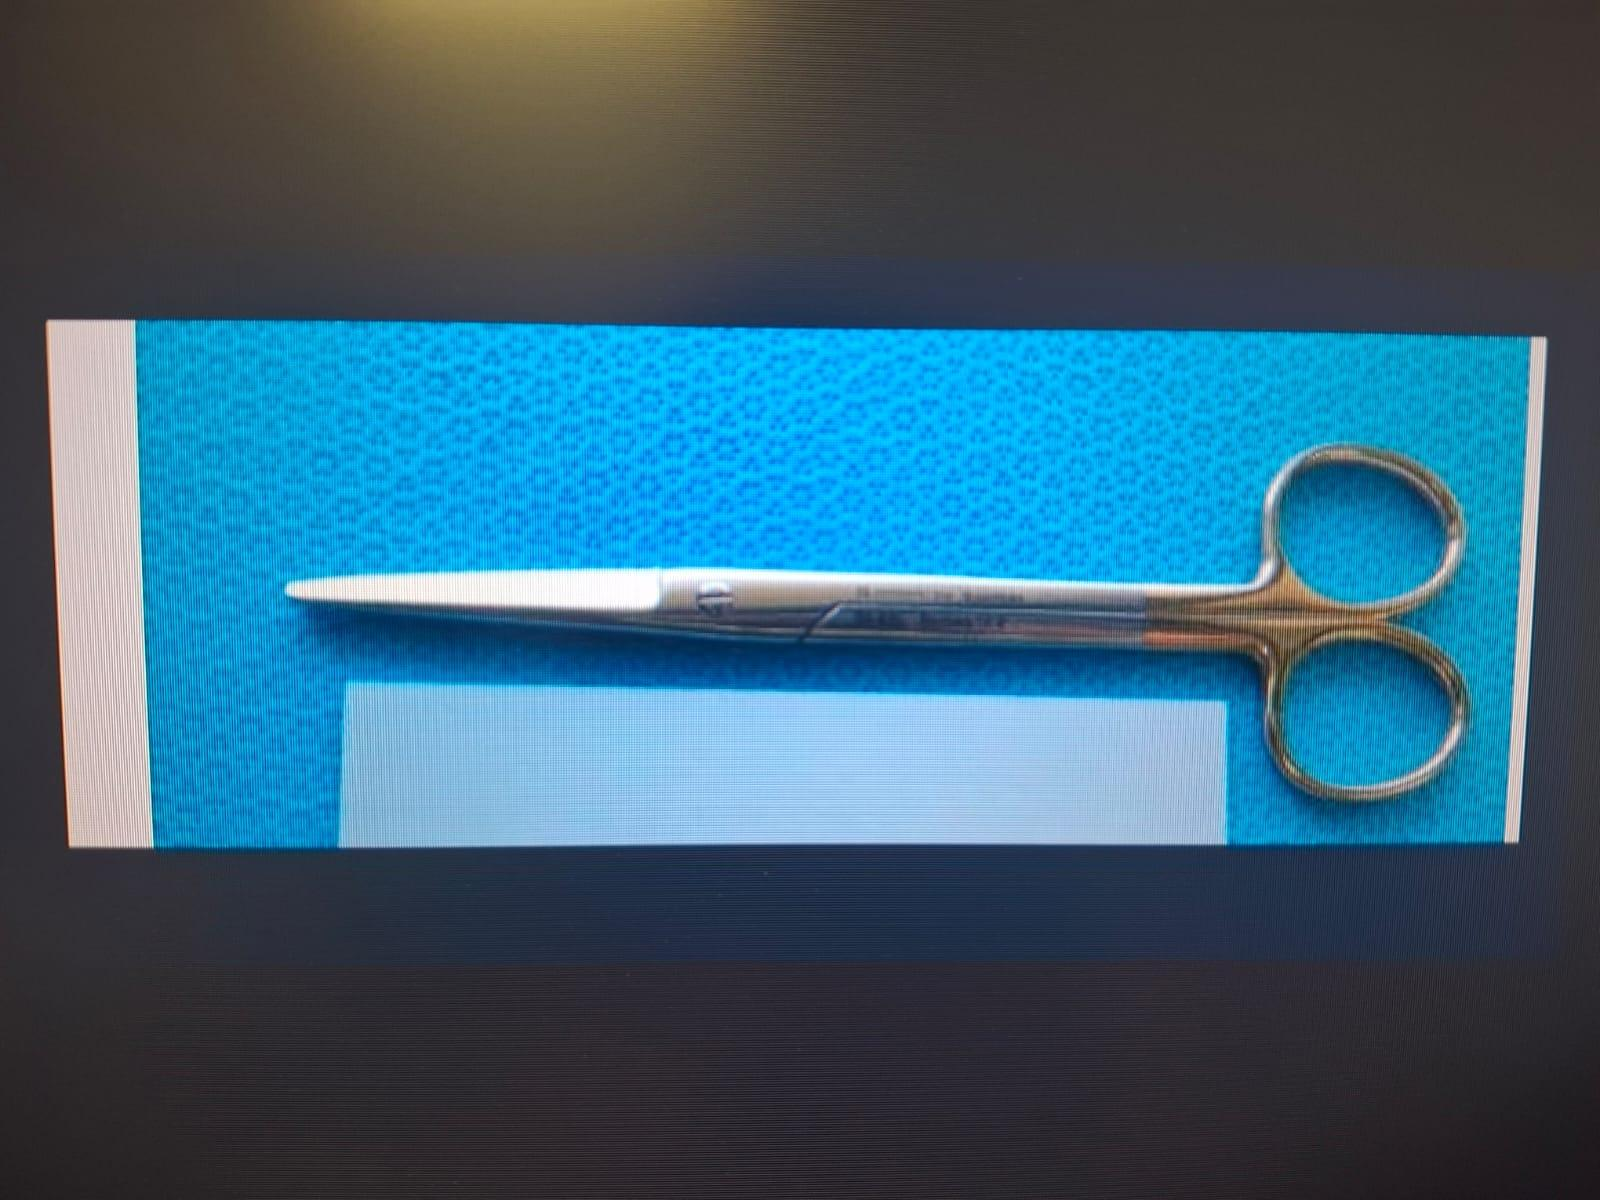Straight Mayo: (268, 437, 1487, 814)
